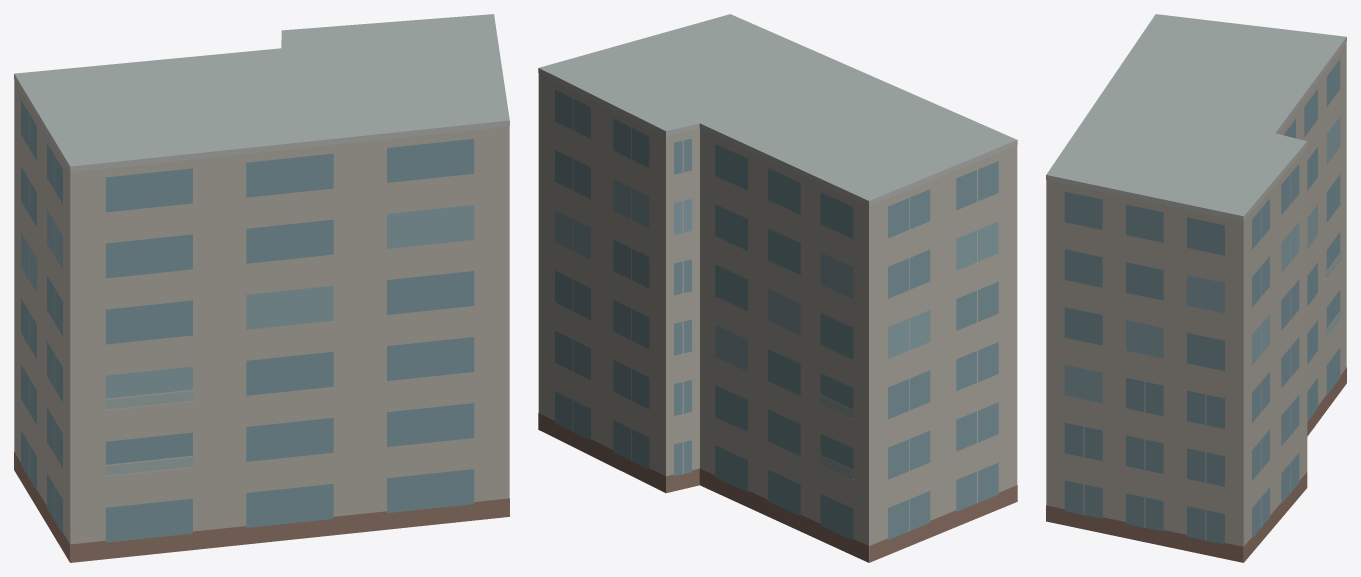
The model's file is survey-upis-33023642.glb.
3 renders of one model, left to right at view 1: azimuth 30°, elevation 25°; view 2: azimuth 150°, elevation 25°; view 3: azimuth 270°, elevation 25°, orthographic. The views are drawn at different scales.
Visible parts, largest first — view 1: survey-upis-33023642.tmp; view 2: survey-upis-33023642.tmp; view 3: survey-upis-33023642.tmp.
Boxes of the visible parts, x1,y1,x2,y2 form: survey-upis-33023642.tmp: (14,14,509,562); survey-upis-33023642.tmp: (538,14,1017,562); survey-upis-33023642.tmp: (1046,14,1346,562).
Size of the model in its own units: 21.29 by 17 by 13.38.
